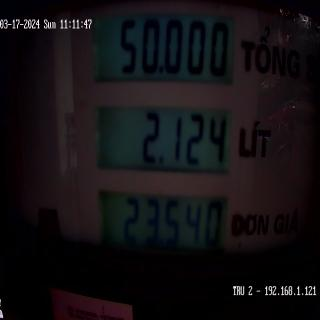screen: (88, 3, 240, 281)
